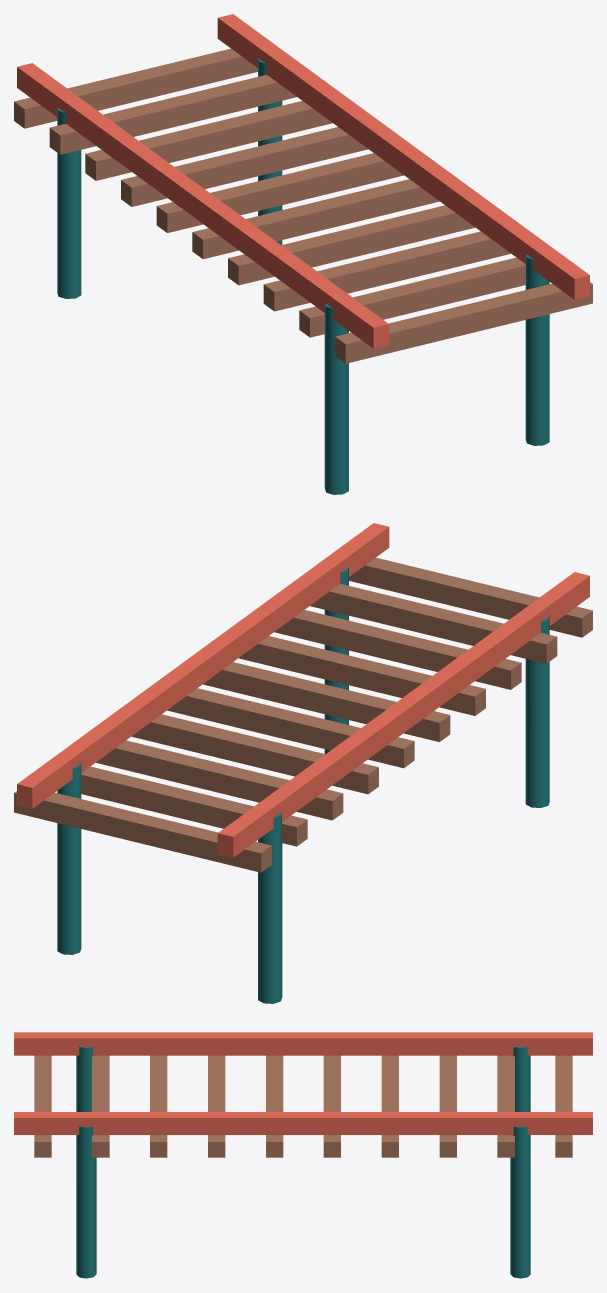
Rendered from track_piece.glb.
3 renders of one model, top to bottom at view 1: azimuth 30°, elevation 25°; view 2: azimuth 150°, elevation 25°; view 3: azimuth 270°, elevation 25°, orthographic. The views are drawn at different scales.
Visible parts, largest first — view 1: track_piece; view 2: track_piece; view 3: track_piece.
Boxes of the visible parts, x1,y1,x2,y2 form: track_piece: (14, 14, 592, 494); track_piece: (14, 523, 592, 1003); track_piece: (14, 1032, 592, 1278).
Size of the model in its own units: 1.6 by 1.21 by 4.
